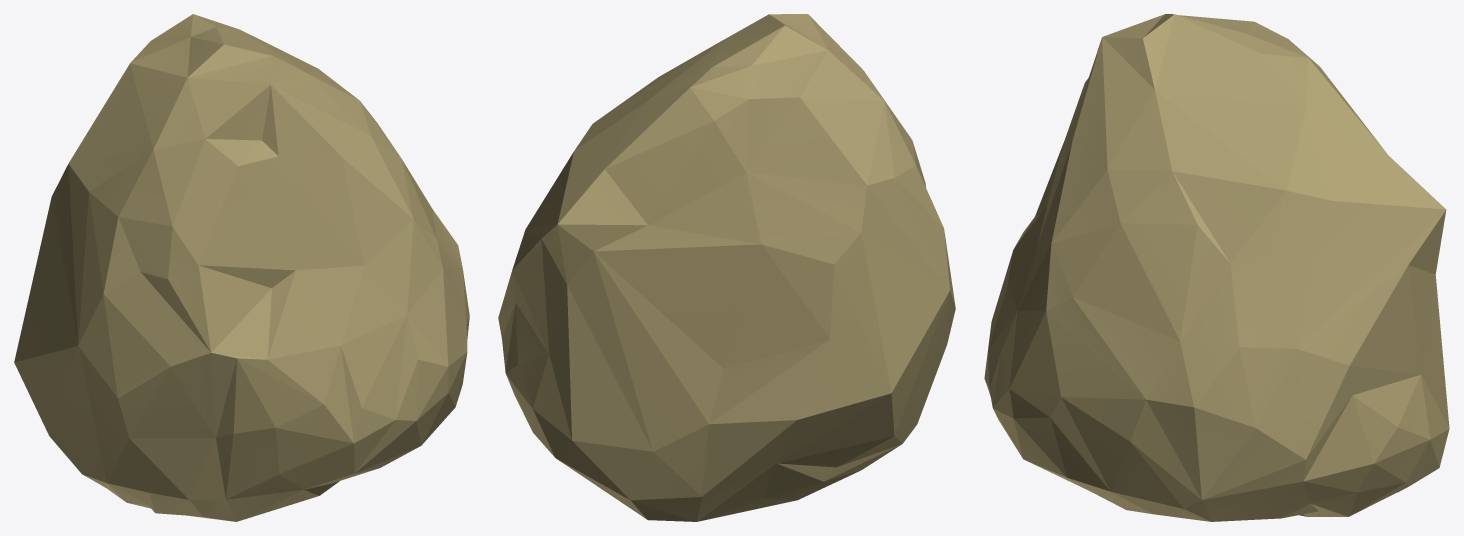
Rendered from SM_rock_81.fbx.
The picture shows the model from 3 angles, left to right: view 1: azimuth 30°, elevation 25°; view 2: azimuth 150°, elevation 25°; view 3: azimuth 270°, elevation 25°; orthographic projection. The views are drawn at different scales.
Parts seen in each view (by area): view 1: rock_81; view 2: rock_81; view 3: rock_81.
Part boxes in pixels (x1,y1,x2,y2): rock_81: [14, 14, 469, 521]; rock_81: [498, 14, 955, 521]; rock_81: [984, 14, 1449, 521].
Size of the model in its own units: 129 by 141 by 124.
